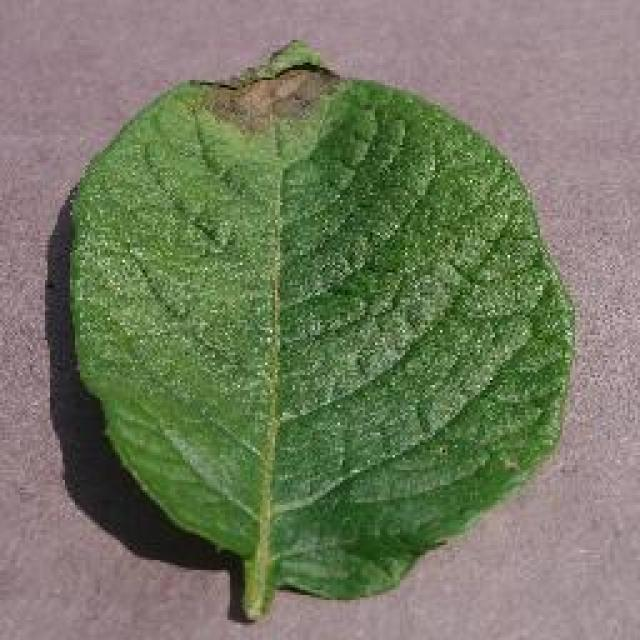green waste: (31, 22, 596, 631)
